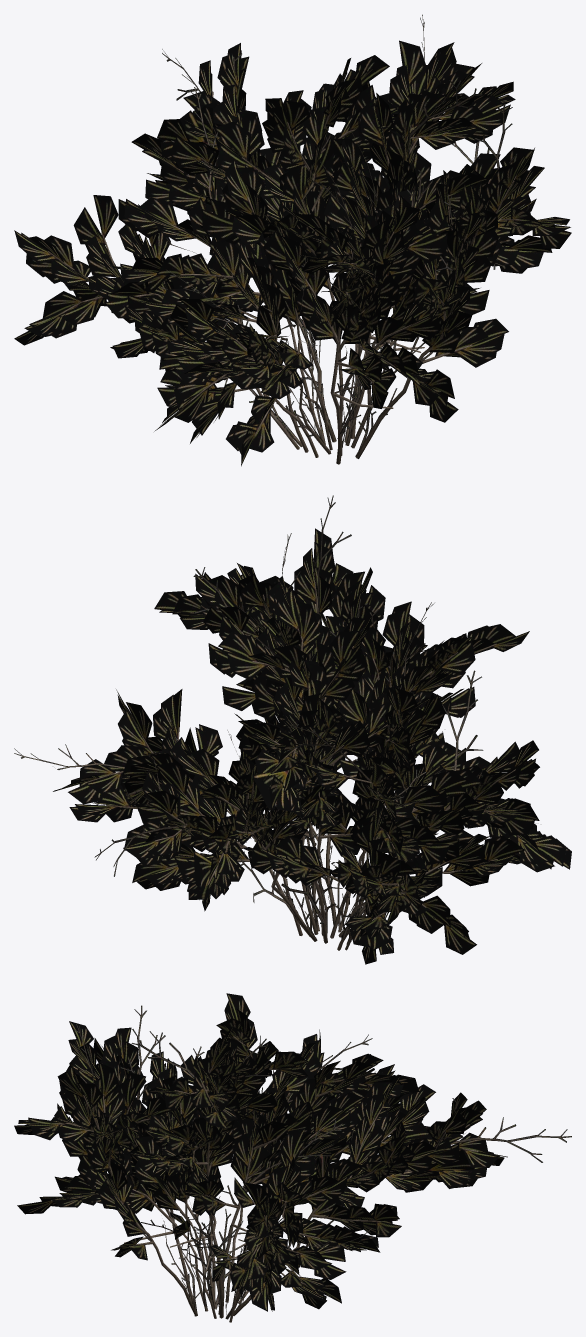
File: scrub.glb
3 renders of one model, top to bottom at view 1: azimuth 30°, elevation 25°; view 2: azimuth 150°, elevation 25°; view 3: azimuth 270°, elevation 25°, orthographic. The views are drawn at different scales.
Parts seen in each view (by area): view 1: wild_rooibos_bush_a; view 2: wild_rooibos_bush_a; view 3: wild_rooibos_bush_a.
Part boxes in pixels (left/top/right/bottom): wild_rooibos_bush_a: left=14, top=14, right=571, bottom=466; wild_rooibos_bush_a: left=14, top=495, right=571, bottom=964; wild_rooibos_bush_a: left=14, top=993, right=571, bottom=1322.
Bounding box in the file's own units: 0.6966 × 0.5395 × 0.8434.
Materials: 2 (2 with a texture image).
